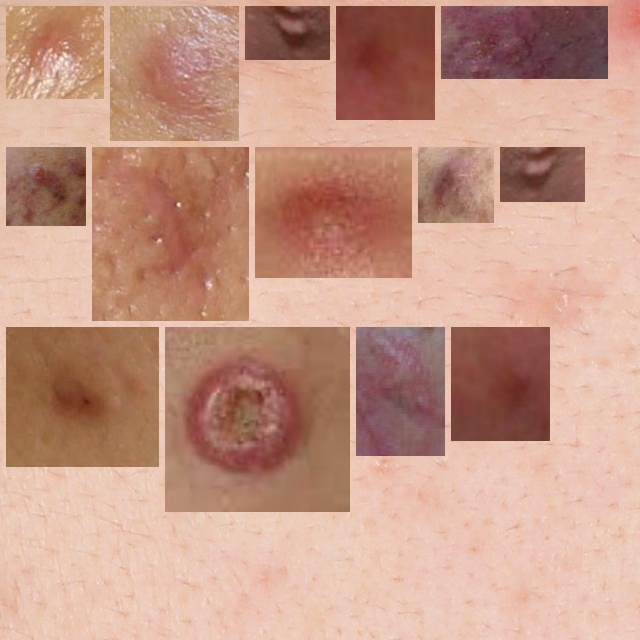nodule: (173, 335, 342, 504), (100, 155, 241, 313), (14, 335, 151, 459), (263, 155, 404, 270), (118, 14, 231, 133), (449, 14, 600, 71), (364, 335, 437, 448), (344, 14, 427, 112), (459, 335, 542, 433), (14, 14, 96, 91), (14, 155, 78, 218), (426, 155, 486, 215), (508, 155, 577, 194), (253, 14, 322, 52)
